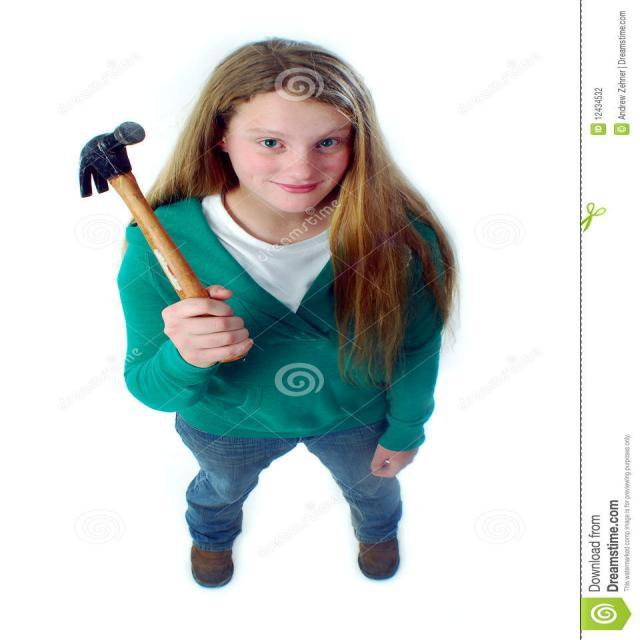hammer: (69, 114, 259, 370)
